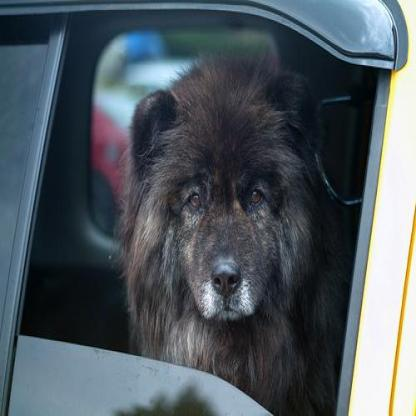chow: (118, 50, 364, 413)
